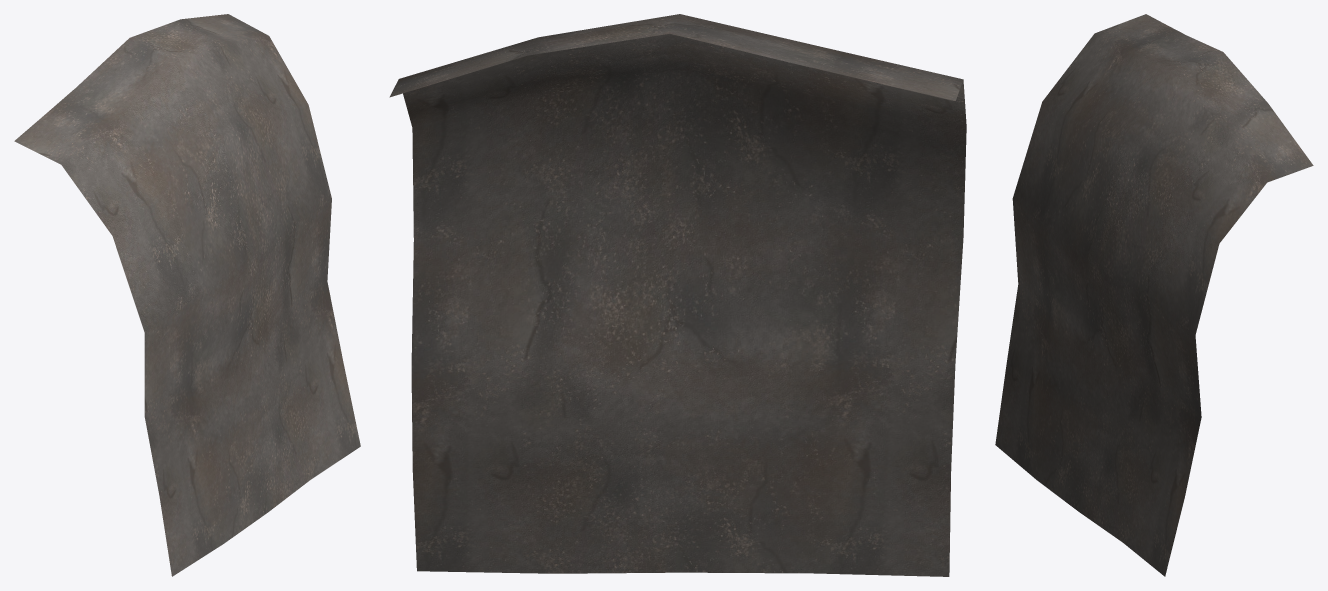
File: SmallCliffWall.fbx
The picture shows the model from 3 angles, left to right: view 1: azimuth 30°, elevation 25°; view 2: azimuth 150°, elevation 25°; view 3: azimuth 270°, elevation 25°; orthographic projection. The views are drawn at different scales.
Visible parts, largest first — view 1: SmallCliffWall; view 2: SmallCliffWall; view 3: SmallCliffWall.
Boxes of the visible parts, bbox=[...] form: SmallCliffWall: bbox=[14, 14, 360, 576]; SmallCliffWall: bbox=[389, 14, 966, 576]; SmallCliffWall: bbox=[995, 14, 1313, 576].
Size of the model in its own units: 4.63 by 5.41 by 3.64.
1 material, 1 textured.
